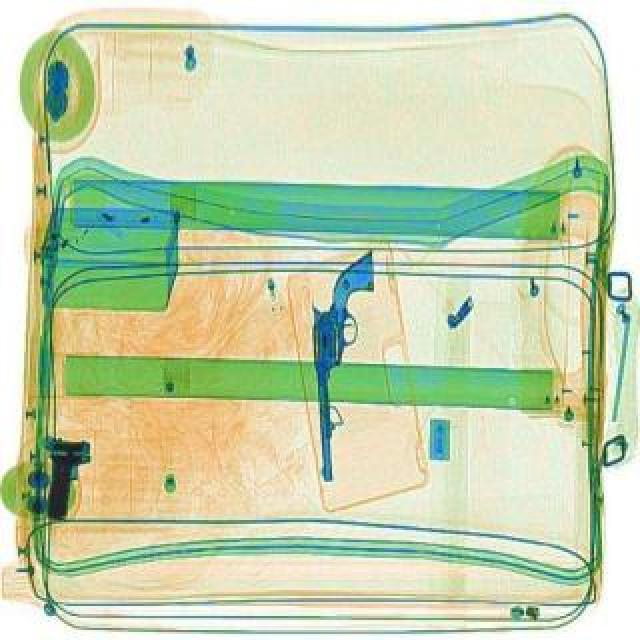gun: (304, 252, 384, 486)
